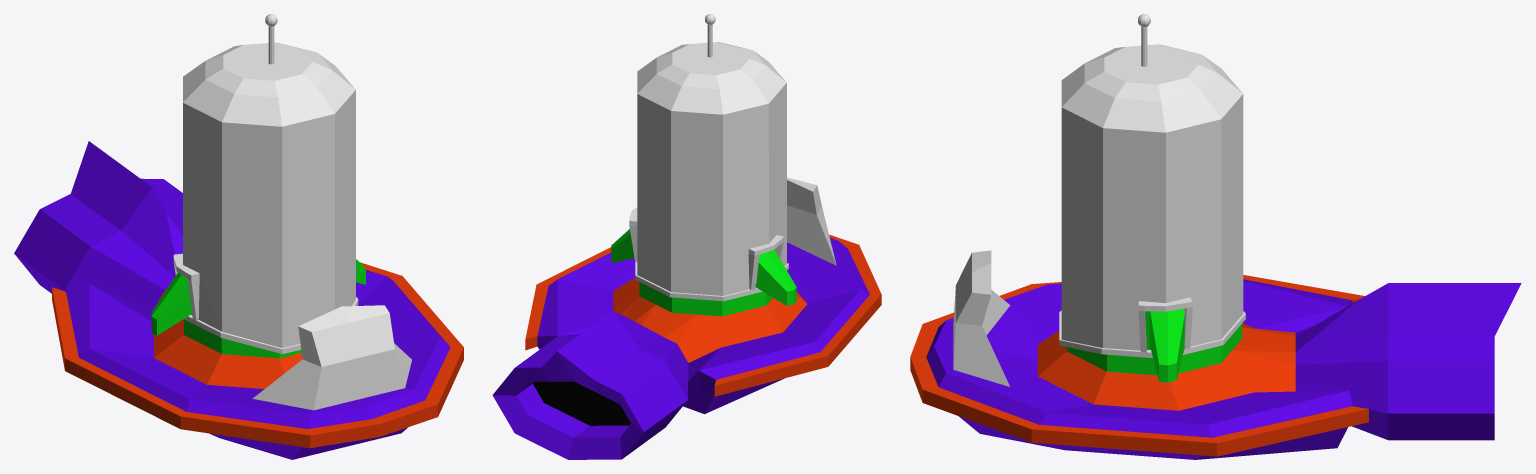
The model's file is PepinoMutante1Nave.fbx.
3 views of the same model, side by side, from view 1: azimuth 30°, elevation 25°; view 2: azimuth 150°, elevation 25°; view 3: azimuth 270°, elevation 25° (orthographic). The views are drawn at different scales.
Visible parts, largest first — view 1: Head, Arms; view 2: Head, Arms; view 3: Head, Arms.
Part boxes in pixels (<box>): Head: <box>14,14,463,459</box>; Arms: <box>151,259,365,335</box>; Head: <box>492,14,881,459</box>; Arms: <box>611,229,796,305</box>; Head: <box>910,14,1521,459</box>; Arms: <box>1149,308,1184,382</box>.
Size of the model in its own units: 453 by 503 by 676.
